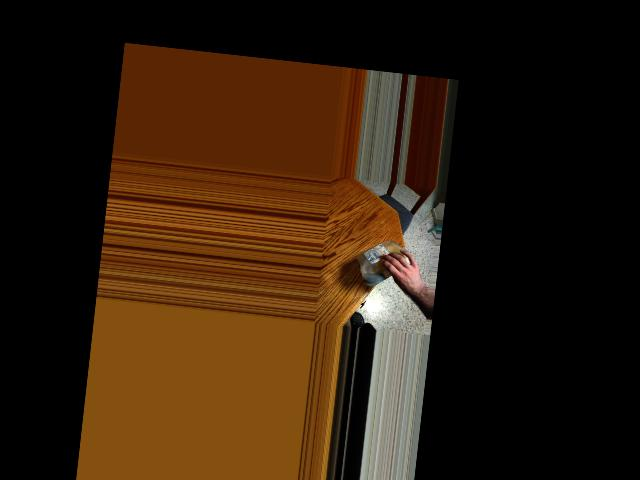cheese: (356, 236, 416, 287)
